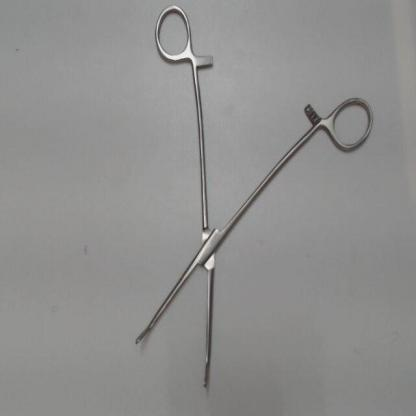Lahey Forceps: (132, 3, 380, 396)
